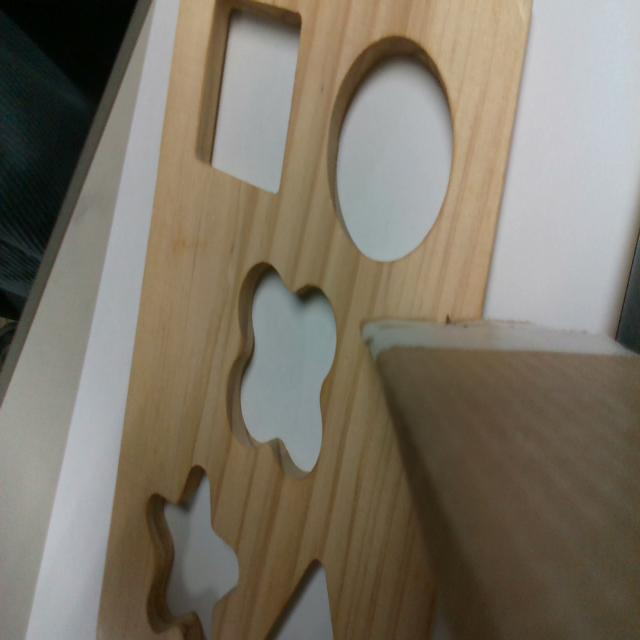circle: (327, 33, 453, 262)
flower: (224, 261, 335, 472)
square: (193, 2, 300, 197)
star: (144, 467, 238, 634)
triangle: (261, 555, 337, 638)
